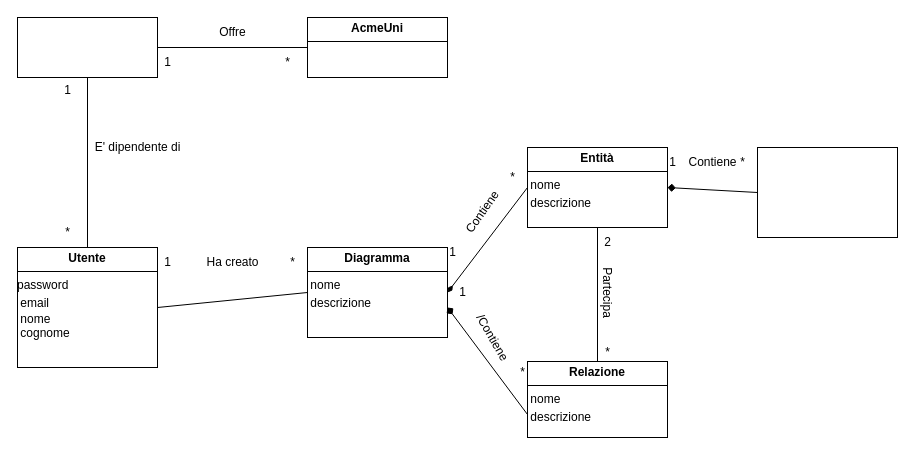
Some shapes in this 915 by 455 pixel diagram are drawn without their labels. Here are the shapes that lost their labels. From the top down, the box of each, then its label:
(16, 16, 158, 78): Università 1
(756, 146, 898, 238): Attributo nome tipo:Tipo descrizione
